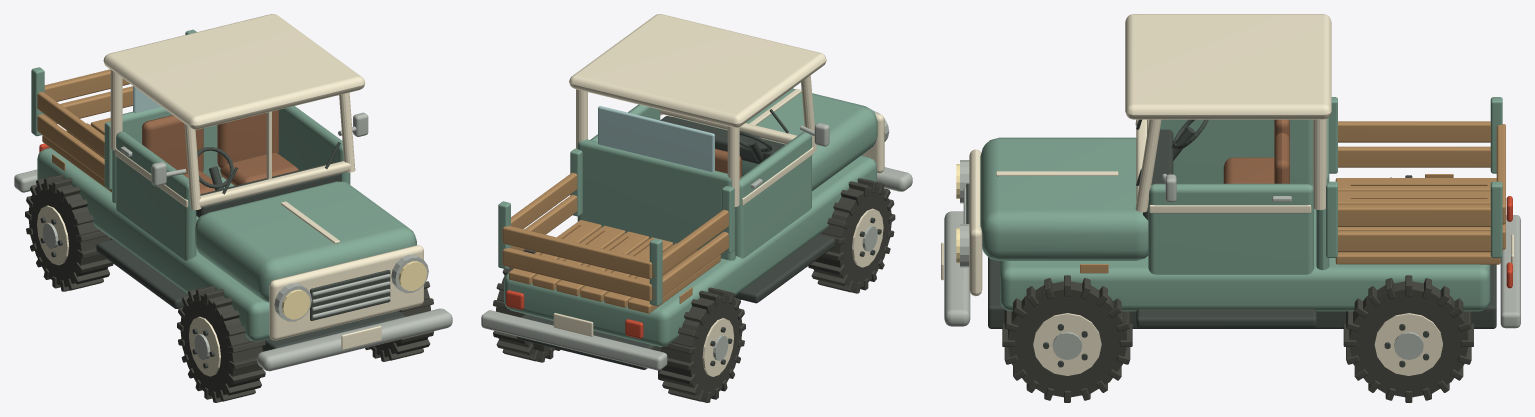
The model's file is farm_pickup.glb.
3 views of the same model, side by side, from view 1: azimuth 30°, elevation 25°; view 2: azimuth 150°, elevation 25°; view 3: azimuth 270°, elevation 25° (orthographic). The views are drawn at different scales.
Visible parts, largest first — view 1: PickupBody, Wheel_FL, Wheel_RL, DriverDoor, Wheel_FR; view 2: PickupBody, Wheel_RL, DriverDoor, Wheel_FL, Wheel_RR; view 3: PickupBody, Wheel_FR, Wheel_RR, DriverDoor.
Part boxes in pixels (left/top/right/bottom): PickupBody: left=14, top=14, right=452, bottom=371; Wheel_FL: left=177, top=285, right=265, bottom=402; Wheel_RL: left=25, top=174, right=113, bottom=291; DriverDoor: left=115, top=131, right=196, bottom=260; Wheel_FR: left=365, top=281, right=433, bottom=361; PickupBody: left=481, top=14, right=912, bottom=380; Wheel_RL: left=658, top=287, right=745, bottom=402; DriverDoor: left=735, top=123, right=829, bottom=258; Wheel_FL: left=808, top=178, right=895, bottom=293; Wheel_RR: left=493, top=249, right=560, bottom=362; PickupBody: left=941, top=14, right=1520, bottom=328; Wheel_FR: left=1002, top=275, right=1132, bottom=402; Wheel_RR: left=1343, top=275, right=1473, bottom=402; DriverDoor: left=1160, top=119, right=1312, bottom=185.
Bounding box in the file's own units: 3.01 × 3.44 × 6.27.
